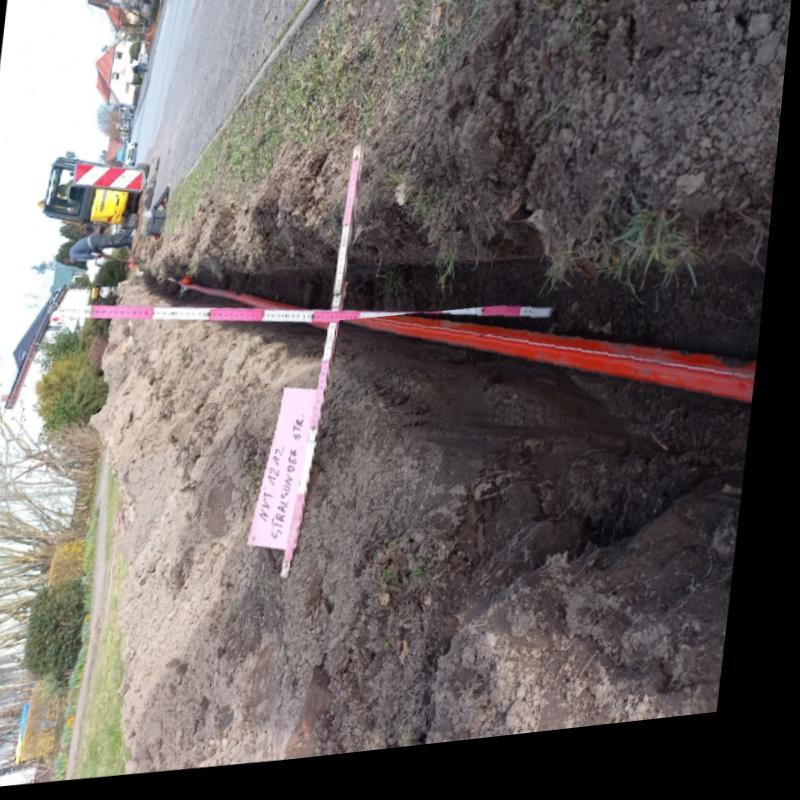Kugelmarker: (188, 281, 198, 290)
Orang-Speednetrohrchen: (349, 325, 764, 420)
